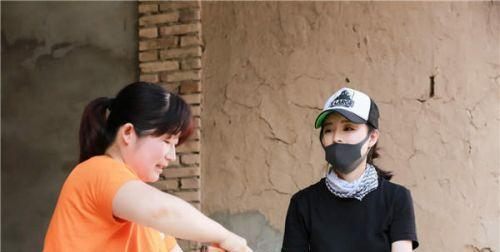NONE: (133, 131, 185, 181)
WRONG: (320, 115, 373, 168)
